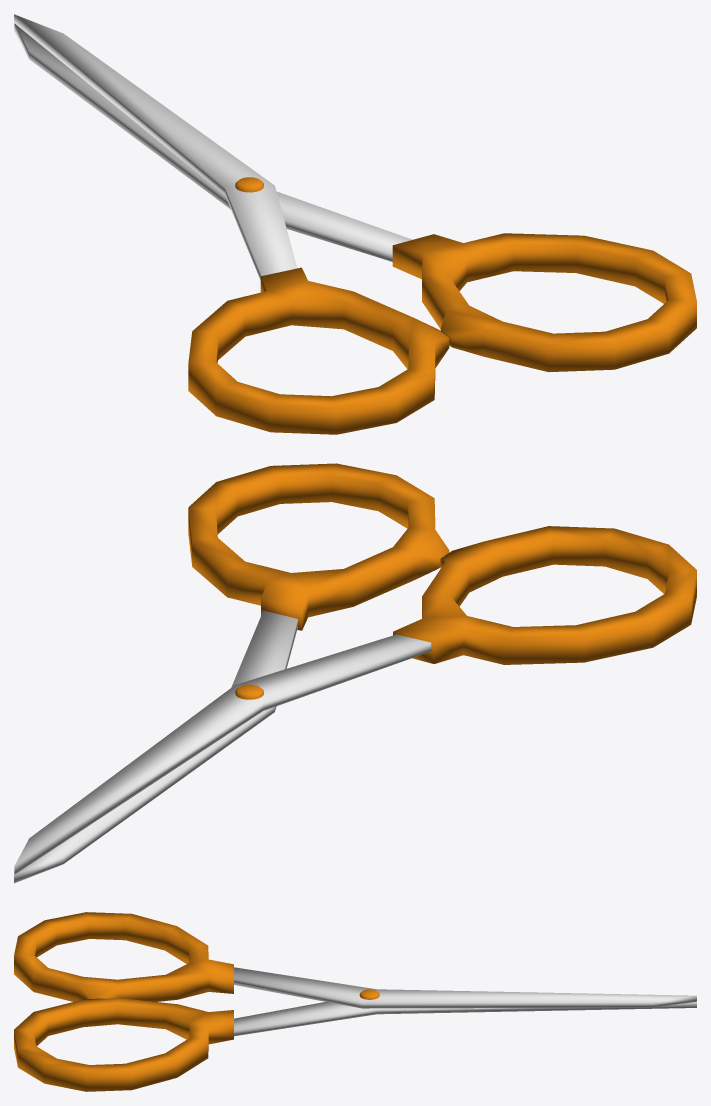
File: scissors.fbx
3 renders of one model, top to bottom at view 1: azimuth 30°, elevation 25°; view 2: azimuth 150°, elevation 25°; view 3: azimuth 270°, elevation 25°, orthographic. The views are drawn at different scales.
Visible parts, largest first — view 1: scissorblade1, scissorblade2; view 2: scissorblade1, scissorblade2; view 3: scissorblade1, scissorblade2.
Part boxes in pixels (x1=…): scissorblade1: x1=14, y1=14, x2=449, y2=434; scissorblade2: x1=14, y1=23, x2=696, y2=372; scissorblade1: x1=14, y1=526, x2=696, y2=874; scissorblade2: x1=14, y1=463, x2=449, y2=883; scissorblade1: x1=14, y1=912, x2=696, y2=1008; scissorblade2: x1=14, y1=998, x2=696, y2=1091.
Bounding box in the file's own units: 4.42 × 0.2396 × 7.93.
